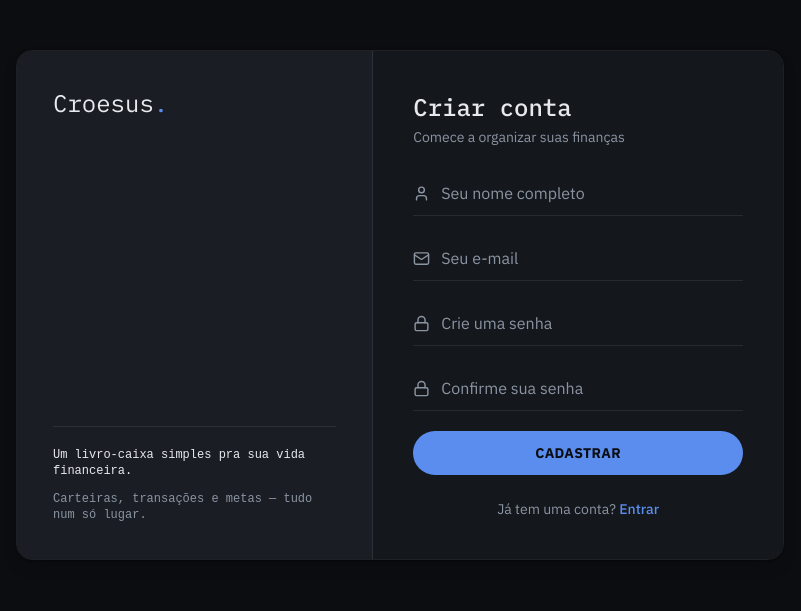
Scenario: RegisterPage › shows an error and does not submit when passwords do not match
Type "John Doe" into the field with placeholder "Seu nome completo" at (578, 194), box 413,171 -> 743,216
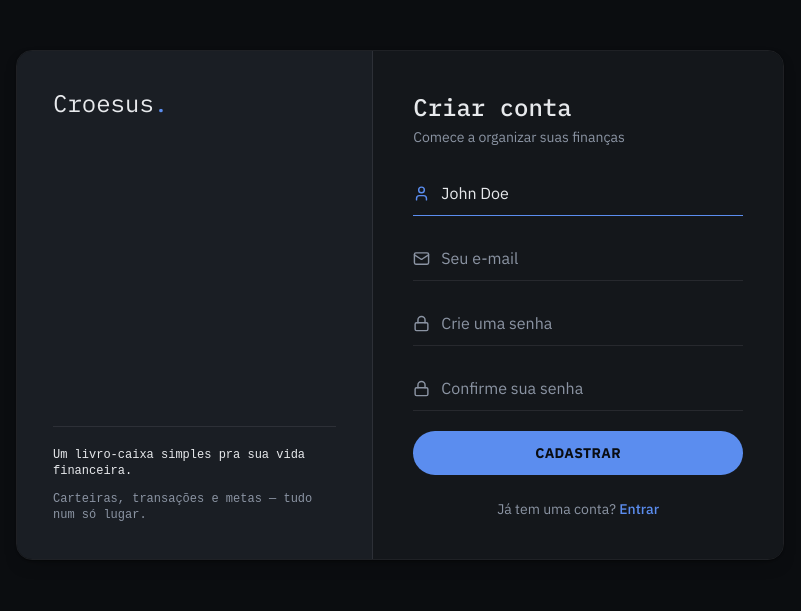
Type "john@example.com" into the field with placeholder "Seu e-mail" at (578, 258), box 413,236 -> 743,281
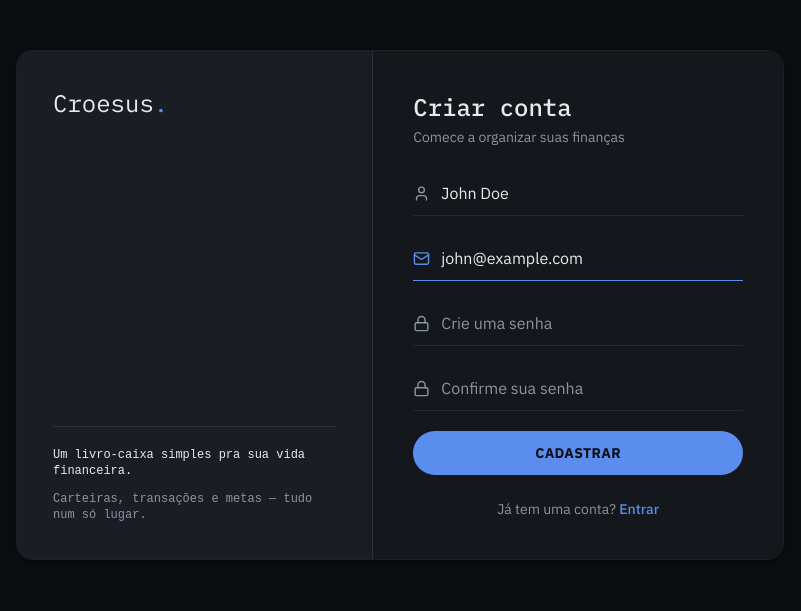
Type "secret123" into the password field with placeholder "Crie uma senha" at (578, 324), box 413,301 -> 743,346
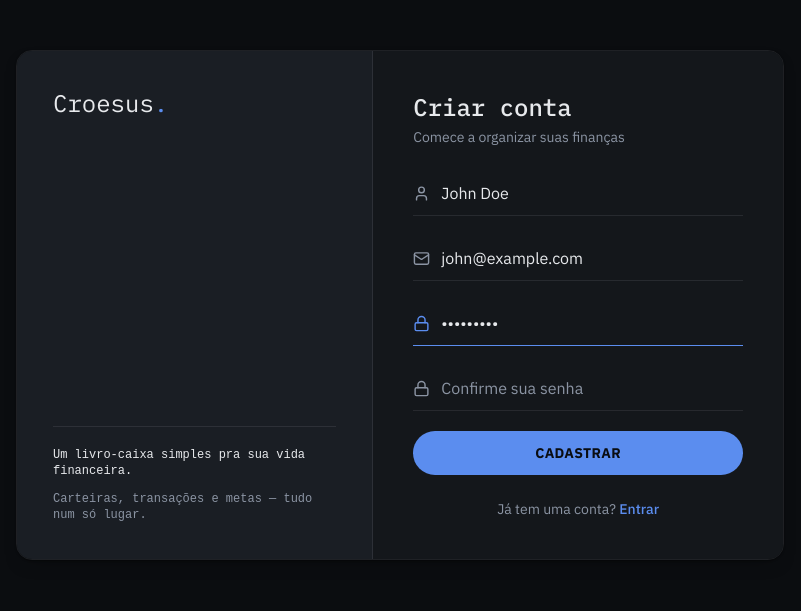
Type "different123" into the password field with placeholder "Confirme sua senha" at (578, 388), box 413,366 -> 743,411
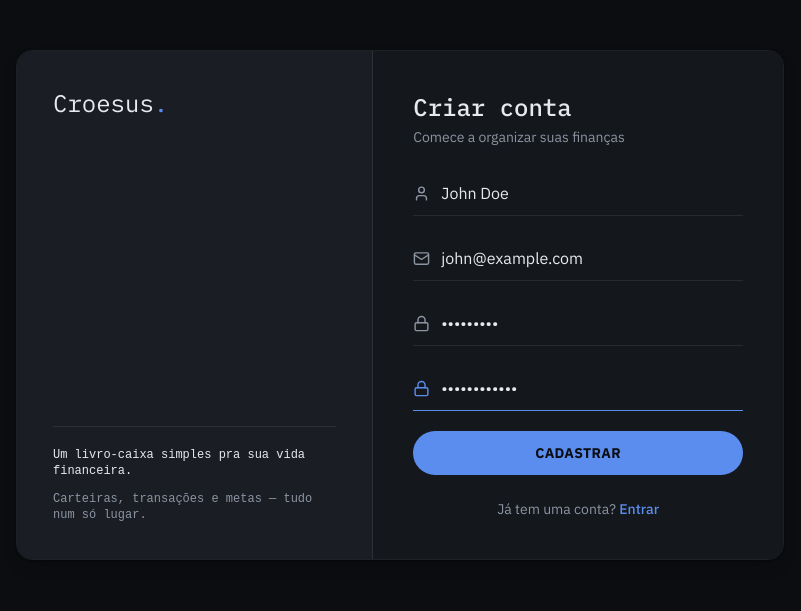
Click the button "Cadastrar" at (578, 453), box 413,431 -> 743,475
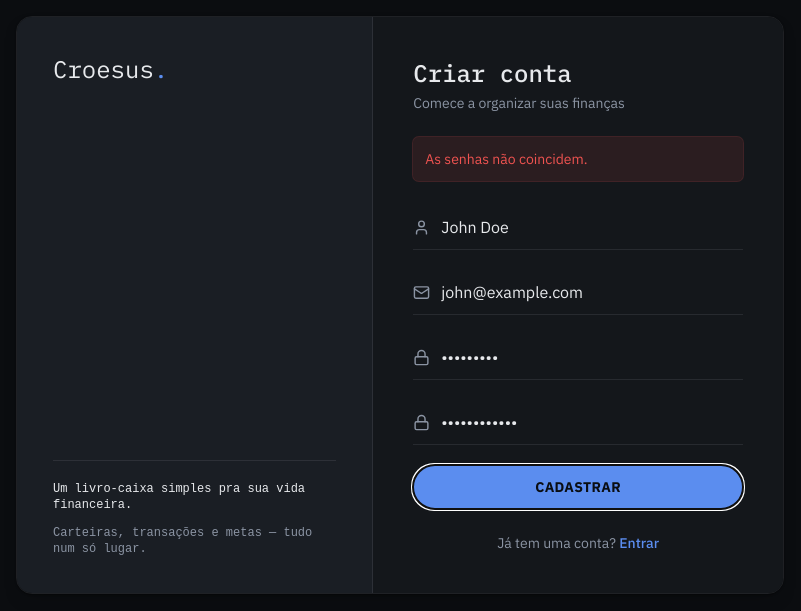
expect the text "As senhas não coincidem." is shown: met, box 413,137 -> 743,181
